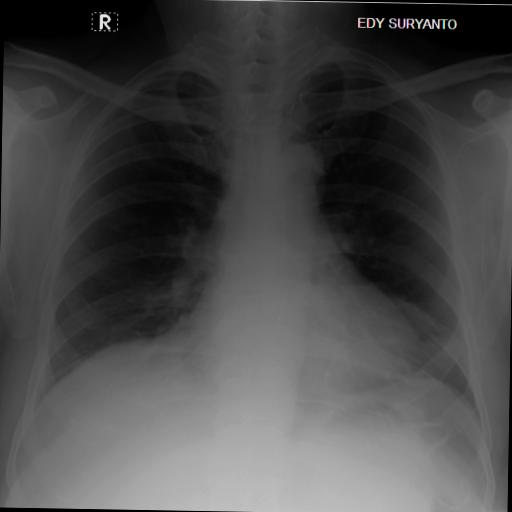kardiomegali: (20, 24, 496, 442)
